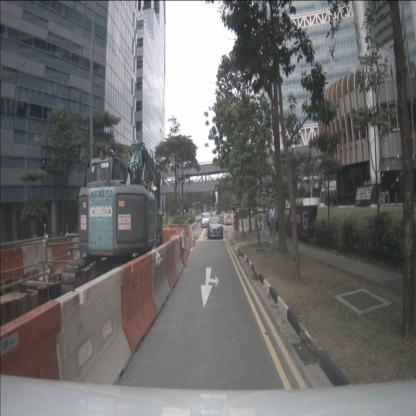barrier: (53, 266, 133, 416), (0, 300, 66, 416), (118, 252, 158, 354), (146, 243, 172, 315), (22, 242, 53, 287), (0, 245, 25, 292), (164, 239, 180, 292), (50, 239, 72, 275), (158, 228, 182, 258), (71, 237, 90, 263), (172, 235, 183, 278), (178, 228, 188, 268), (237, 218, 256, 232), (233, 217, 243, 230)
cone: (191, 230, 194, 246)
